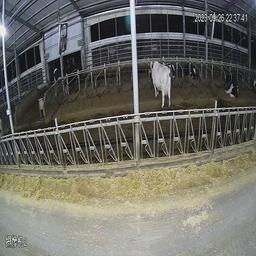cow: (147, 52, 175, 108), (219, 65, 242, 101), (48, 60, 76, 81), (183, 61, 201, 82)
